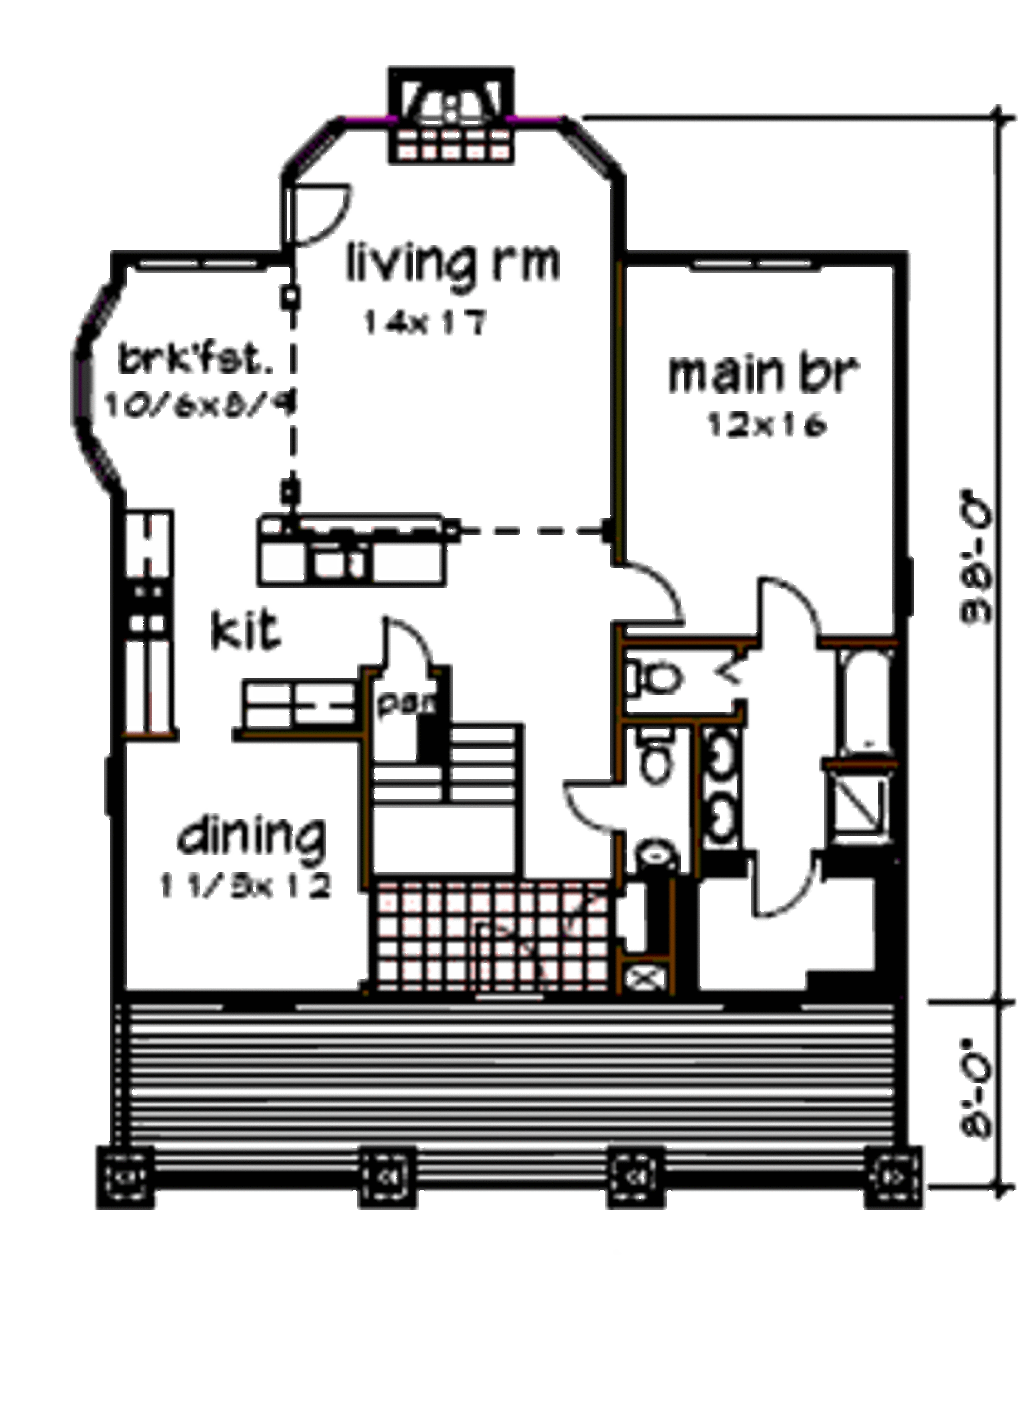door: (607, 549, 691, 632), (743, 578, 834, 652), (551, 765, 632, 846), (291, 182, 360, 255), (373, 612, 438, 684), (751, 847, 817, 915)
kitchen_bar: (242, 488, 471, 586)
large_sink: (619, 712, 686, 791), (621, 645, 682, 712)
small_sink: (691, 717, 749, 854), (632, 832, 691, 878)
stairs: (370, 712, 538, 886)
tub: (834, 647, 899, 771)
window: (686, 238, 832, 273), (134, 241, 267, 273)
